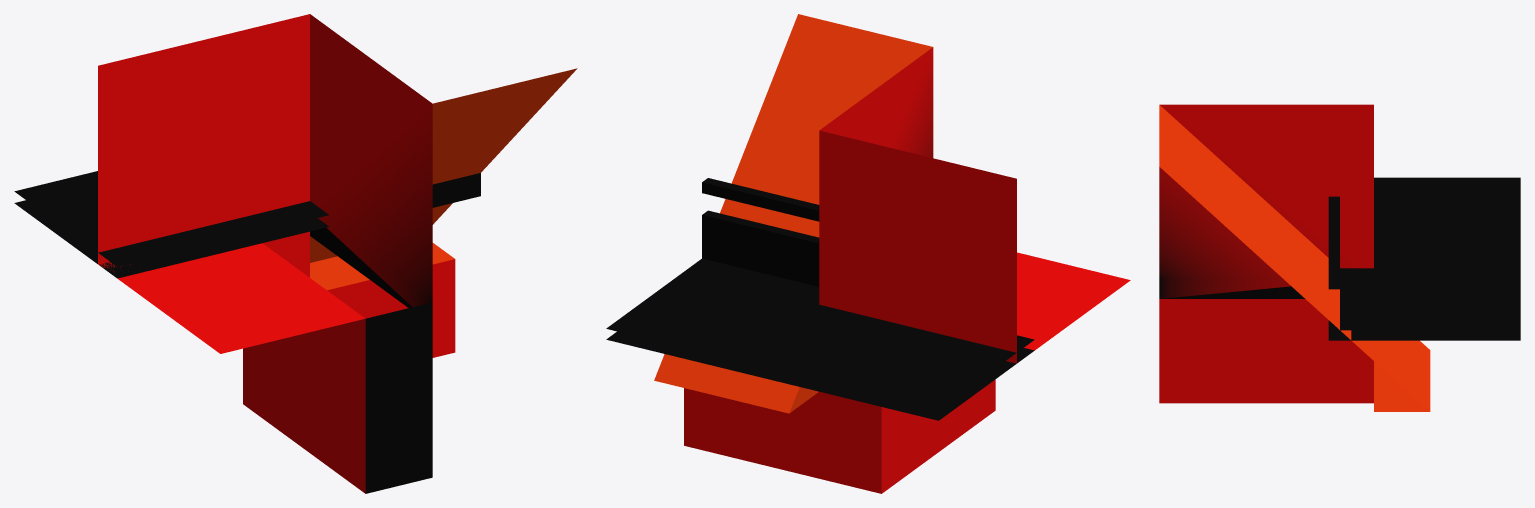
3 views of the same model, side by side, from view 1: azimuth 30°, elevation 25°; view 2: azimuth 150°, elevation 25°; view 3: azimuth 270°, elevation 25° (orthographic). The views are drawn at different scales.
Visible parts, largest first — view 1: None_P_S_E_E_P_E_E_A_None; view 2: None_P_S_E_E_P_E_E_A_None; view 3: None_P_S_E_E_P_E_E_A_None.
Part boxes in pixels (x1,y1,x2,y2): None_P_S_E_E_P_E_E_A_None: [14, 14, 577, 493]; None_P_S_E_E_P_E_E_A_None: [606, 14, 1130, 493]; None_P_S_E_E_P_E_E_A_None: [1159, 104, 1520, 411].
Bounding box in the file's own units: 100 × 100 × 100.
